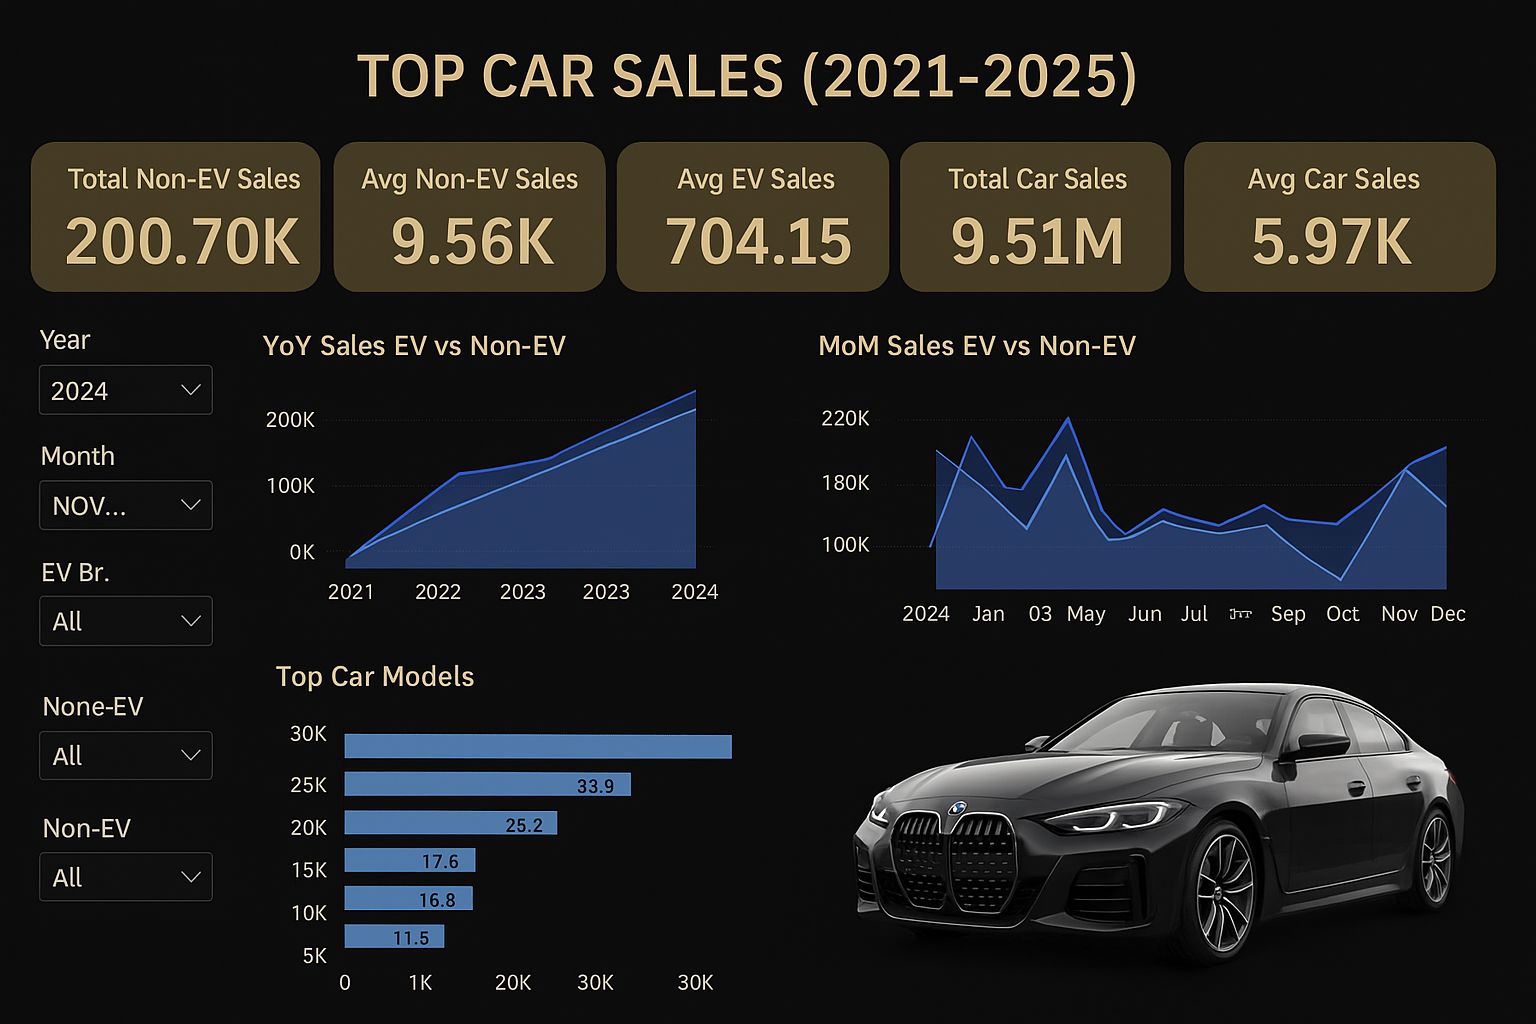

The page's visual inventory and layout, read from the dashboard file:
{"tool":"powerbi","page":{"name":"Monthly Car Sales Performance","canvas":[1280,720],"ordinal":0},"visuals":[{"type":"slicer","fields":{"Values":["EV BRAND.Brand"]},"box":[2.4,178.5,117.4,84.4],"z":0},{"type":"slicer","fields":{"Values":["MONTHLY SALES.Month"]},"box":[0,97.8,119.8,80.7],"z":1000},{"type":"slicer","fields":{"Values":["YEAR.Year"]},"box":[0,6.1,119.8,90.5],"z":2000},{"type":"card","title":"Avg Car Sales","fields":{"Values":["MONTHLY SALES.AVG CAR SALES"]},"box":[1103,48.9,177.3,95.4],"z":3000},{"type":"card","title":"Avg Non-EV Sales","fields":{"Values":["MONTHLY SALES.AVG NON-EV SALES"]},"box":[347.3,48.9,183.4,95.4],"z":4000},{"type":"card","title":"Avg EV Sales","fields":{"Values":["MONTHLY SALES.AVG EV SALES"]},"box":[530.7,48.9,193.2,95.4],"z":5000},{"type":"card","title":"Total Car Sales","fields":{"Values":["MONTHLY SALES.TOTAL CAR SALES"]},"box":[913.5,51.4,188.3,92.9],"z":6000},{"type":"card","title":"Total EV Sales","fields":{"Values":["MONTHLY SALES.TOTAL EV SALES"]},"box":[723.9,51.4,189.5,92.9],"z":7000},{"type":"card","title":"Total Non-EV Sales","fields":{"Values":["MONTHLY SALES.TOTAL NON-EV SALES"]},"box":[114.9,48.9,232.3,95.4],"z":8000},{"type":"slicer","fields":{"Values":["NON-EV BRAND.Brand"]},"box":[2.4,271.5,117.4,77],"z":9000},{"type":"shape","title":"TOP CAR SALES (2021-2025)","box":[298.4,0,744.7,48.9],"z":10000},{"type":"actionButton","box":[151.6,0,100.3,40.4],"z":11000},{"type":"lineChart","title":"YoY Sales EV vs Non-EV","fields":{"Y":["MONTHLY SALES.Non-EV Sales YoY"],"Y2":["MONTHLY SALES.EV Sales YoY"],"Category":["DateTable.Month Name","YEAR.Year"]},"box":[114.9,150.4,567.4,299.6],"z":12000},{"type":"lineChart","title":"MoM Sales EV vs Non-EV","fields":{"Y":["MONTHLY SALES.MoM NonEV Sales"],"Y2":["MONTHLY SALES.MoM EV Sales"],"Category":["DateTable.Month Name","YEAR.Year"]},"box":[694.6,150.4,577.2,299.6],"z":13000},{"type":"clusteredBarChart","title":"Top Car Models","fields":{"Y":["Sum(MONTHLY SALES.Monthly Sales)"],"Category":["MONTHLY SALES.Model"]},"box":[17.1,446.3,689.7,273.9],"z":14000},{"type":"image","box":[706.8,446.3,573.5,270.2],"z":15000}]}

Visuals, with their boxes on the page's 1280x720 design canvas (x1, y1, x2, y2). These are canvas units, not pixel positions in the 1536x1024 screenshot, which may show the page scaled, cropped or inside an application window:
slicer - EV BRAND.Brand: {"left": 2, "top": 178, "right": 120, "bottom": 263}
slicer - MONTHLY SALES.Month: {"left": 0, "top": 98, "right": 120, "bottom": 178}
slicer - YEAR.Year: {"left": 0, "top": 6, "right": 120, "bottom": 97}
"Avg Car Sales" card: {"left": 1103, "top": 49, "right": 1280, "bottom": 144}
"Avg Non-EV Sales" card: {"left": 347, "top": 49, "right": 531, "bottom": 144}
"Avg EV Sales" card: {"left": 531, "top": 49, "right": 724, "bottom": 144}
"Total Car Sales" card: {"left": 914, "top": 51, "right": 1102, "bottom": 144}
"Total EV Sales" card: {"left": 724, "top": 51, "right": 913, "bottom": 144}
"Total Non-EV Sales" card: {"left": 115, "top": 49, "right": 347, "bottom": 144}
slicer - NON-EV BRAND.Brand: {"left": 2, "top": 272, "right": 120, "bottom": 348}
"TOP CAR SALES (2021-2025)" shape: {"left": 298, "top": 0, "right": 1043, "bottom": 49}
actionButton: {"left": 152, "top": 0, "right": 252, "bottom": 40}
"YoY Sales EV vs Non-EV" lineChart: {"left": 115, "top": 150, "right": 682, "bottom": 450}
"MoM Sales EV vs Non-EV" lineChart: {"left": 695, "top": 150, "right": 1272, "bottom": 450}
"Top Car Models" clusteredBarChart: {"left": 17, "top": 446, "right": 707, "bottom": 720}
image: {"left": 707, "top": 446, "right": 1280, "bottom": 716}
